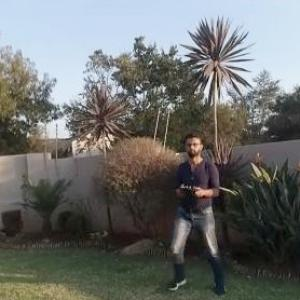follow: (158, 129, 238, 299)
